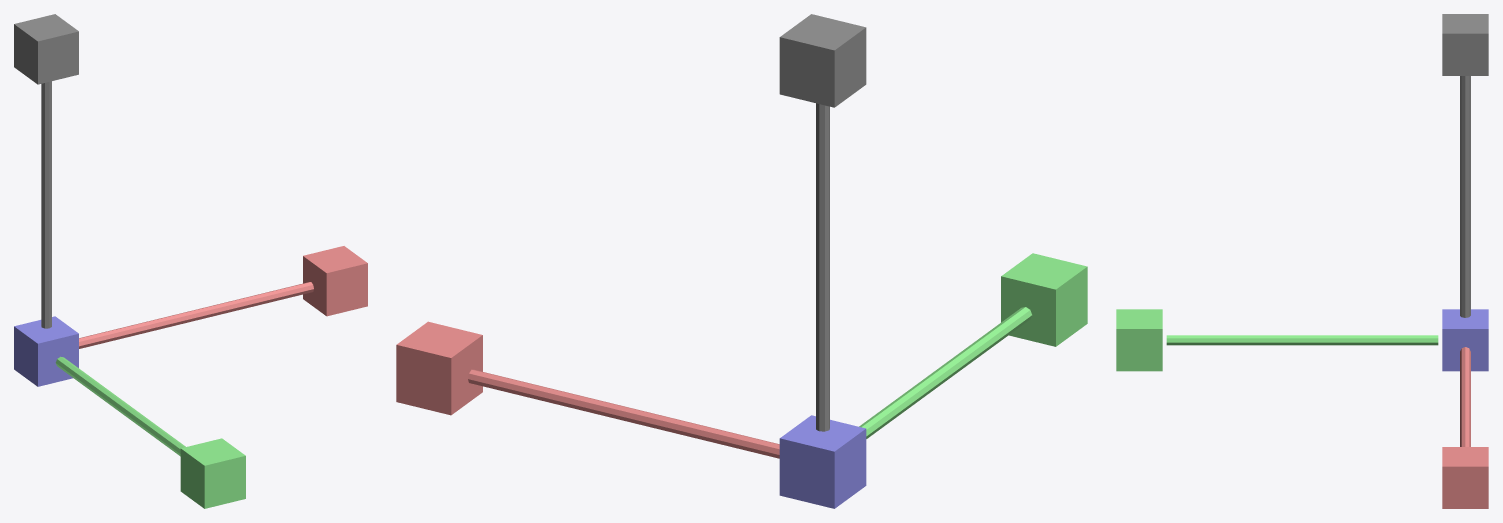
The model's file is ScaleGizmo.gltf.
The picture shows the model from 3 angles, left to right: view 1: azimuth 30°, elevation 25°; view 2: azimuth 150°, elevation 25°; view 3: azimuth 270°, elevation 25°; orthographic projection. The views are drawn at different scales.
Visible parts, largest first — view 1: ScaleGizmo; view 2: ScaleGizmo; view 3: ScaleGizmo.
Part boxes in pixels (left/top/right/bottom): ScaleGizmo: left=14, top=14, right=367, bottom=508; ScaleGizmo: left=396, top=14, right=1087, bottom=508; ScaleGizmo: left=1116, top=14, right=1488, bottom=508.
Bounding box in the file's own units: 0.96 × 0.96 × 0.96.
